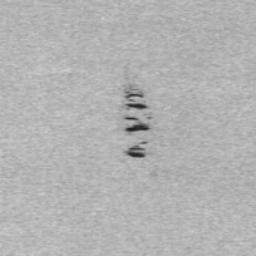Secondary rust skin: (123, 88, 149, 111), (122, 115, 152, 133), (122, 140, 149, 159)
